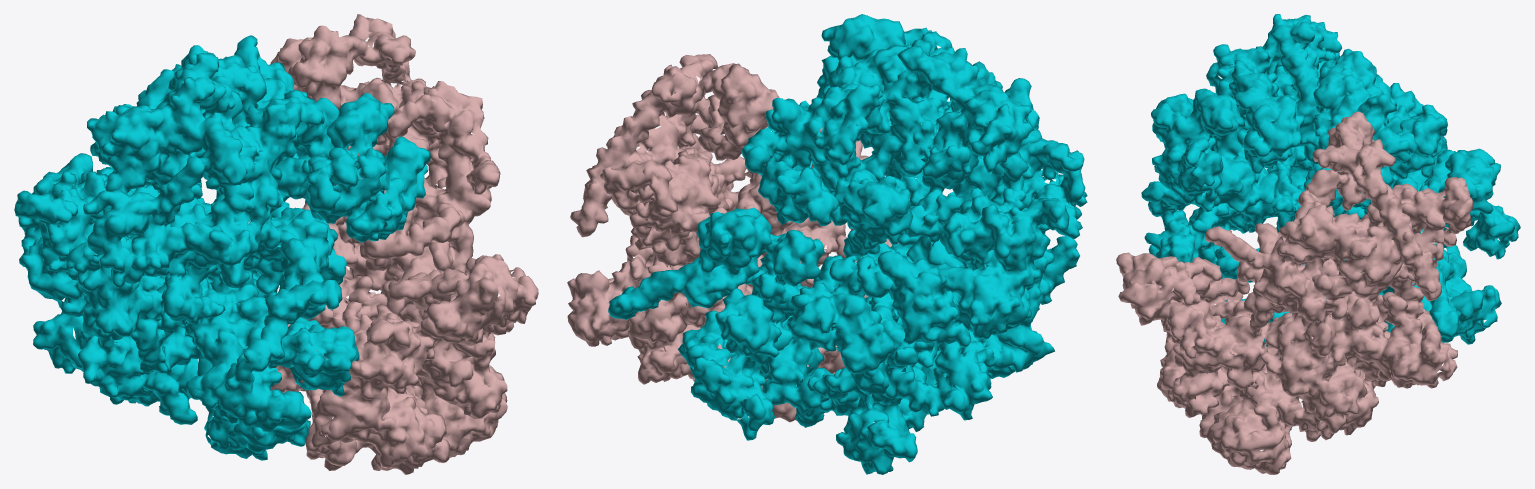
File: ribos-prot.glb
3 views of the same model, side by side, from view 1: azimuth 30°, elevation 25°; view 2: azimuth 150°, elevation 25°; view 3: azimuth 270°, elevation 25° (orthographic). The views are drawn at different scales.
Visible parts, largest first — view 1: vmd_mol0_rep3, vmd_mol0_rep1; view 2: vmd_mol0_rep3, vmd_mol0_rep1; view 3: vmd_mol0_rep1, vmd_mol0_rep3.
Boxes of the visible parts, x1,y1,x2,y2 form: vmd_mol0_rep3: (14, 35, 430, 460); vmd_mol0_rep1: (270, 14, 538, 474); vmd_mol0_rep3: (608, 14, 1087, 474); vmd_mol0_rep1: (567, 54, 910, 422); vmd_mol0_rep1: (1116, 111, 1473, 474); vmd_mol0_rep3: (1141, 14, 1520, 346).
Bounding box in the file's own units: 2.54 × 2.29 × 2.3.
